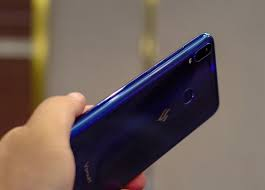vsmart: (57, 29, 223, 189)
